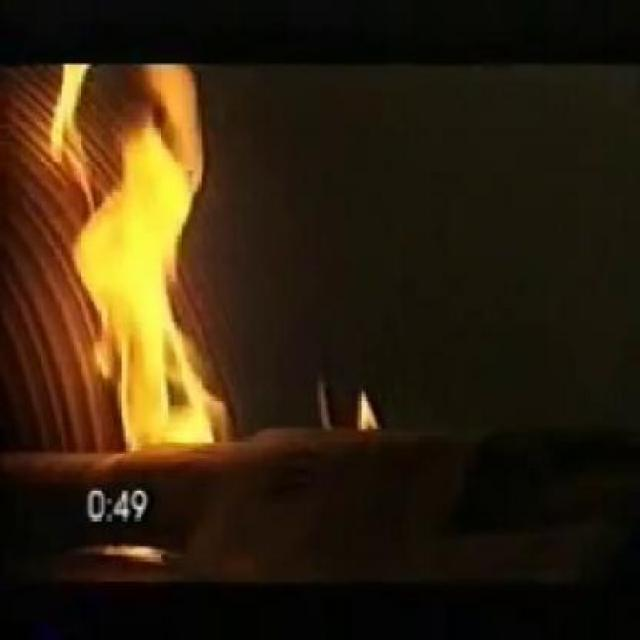fire: (42, 66, 245, 454)
